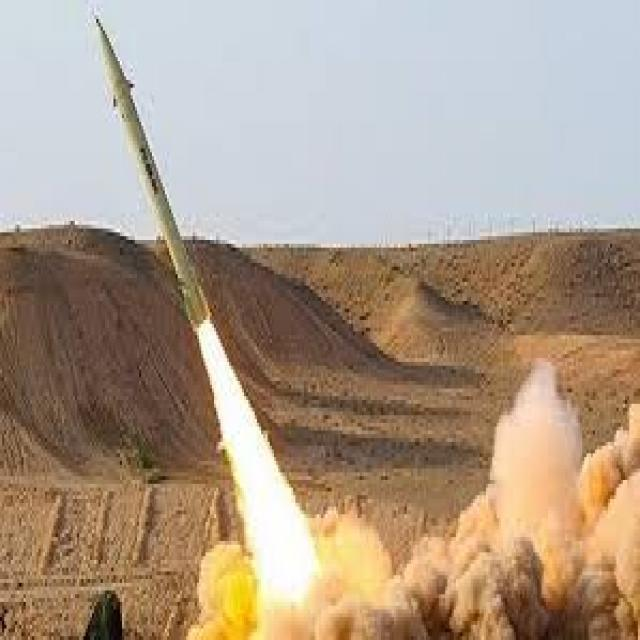Missile: (89, 9, 213, 336)
